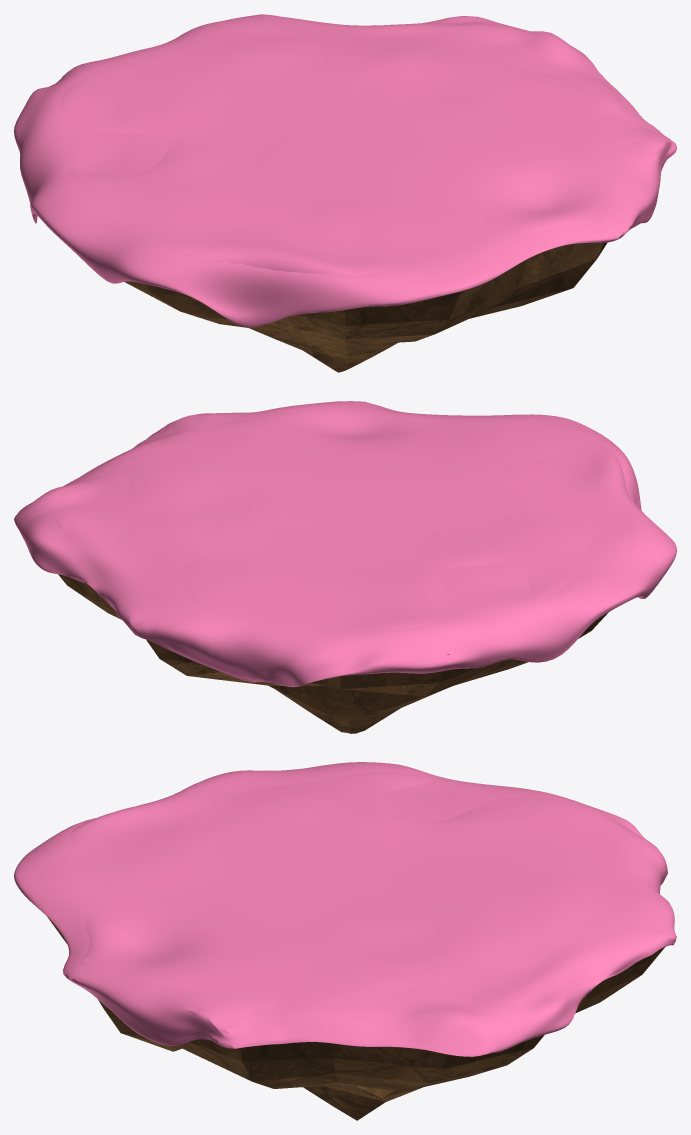
Rendered from Dolci_p1.fbx.
3 views of the same model, one above another, from view 1: azimuth 30°, elevation 25°; view 2: azimuth 150°, elevation 25°; view 3: azimuth 270°, elevation 25° (orthographic). The views are drawn at different scales.
Parts seen in each view (by area): view 1: Plane, ground; view 2: Plane, ground; view 3: Plane, ground.
Part boxes in pixels (x1,y1,x2,y2): Plane: [14, 14, 676, 327]; ground: [20, 124, 607, 372]; Plane: [14, 401, 676, 687]; ground: [58, 574, 608, 733]; Plane: [14, 762, 676, 1056]; ground: [47, 917, 664, 1120].
Bounding box in the file's own units: 525 × 199 × 521.
2 materials, 2 textured.
